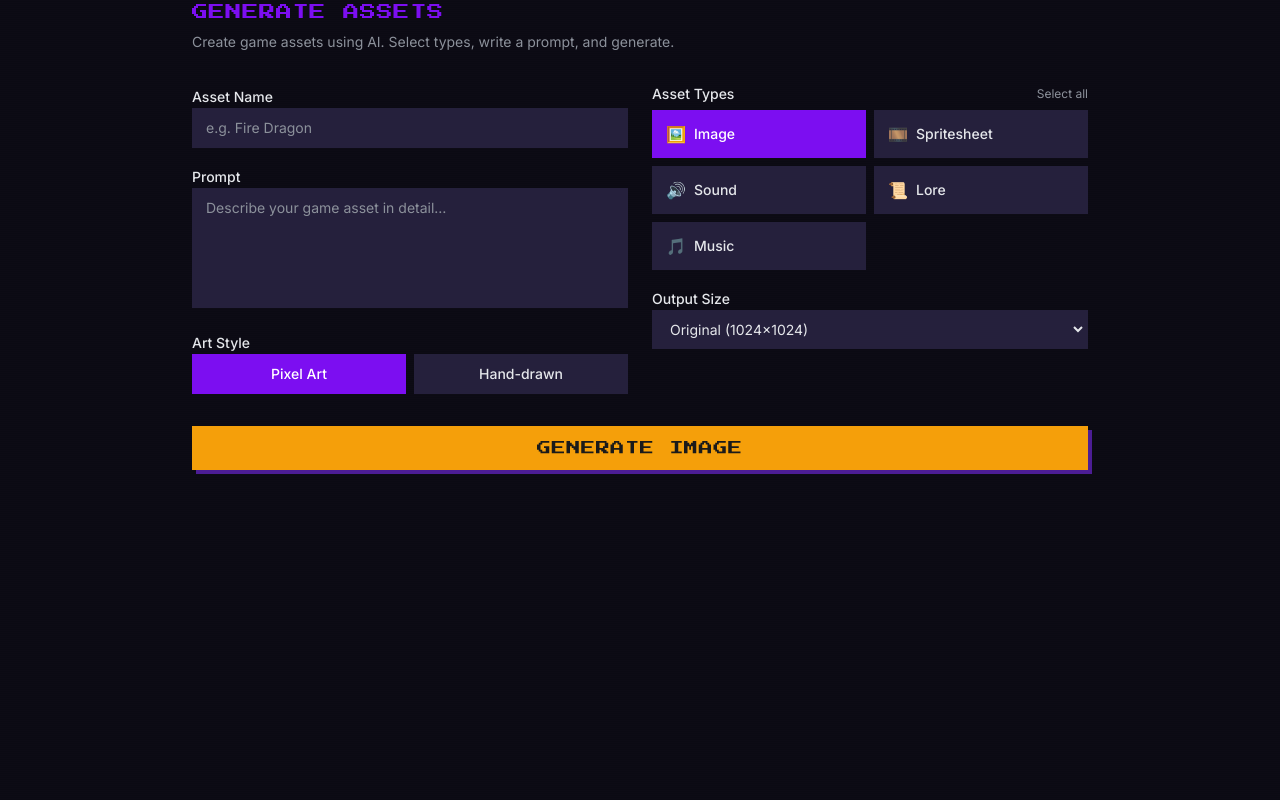
it: GenerateView — music options block › reveals genre, duration, and model controls after selecting Music
Click the button "🎵 music" at (759,246), box [652,222,866,270]
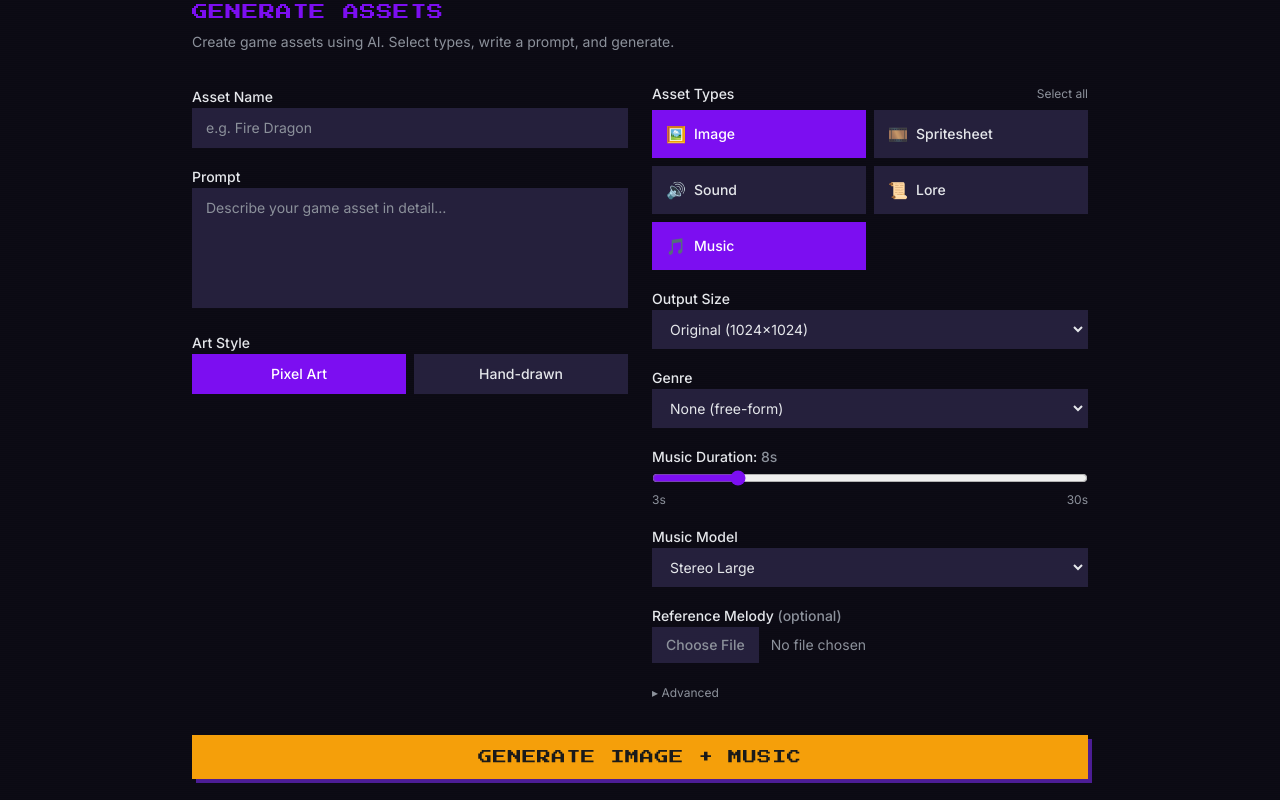
Check: the text "Genre" is shown, box [652,369,692,386]
Check: the text "Music Duration" is shown, box [652,448,761,465]
Check: the text "Music Model" is shown, box [652,528,738,545]
